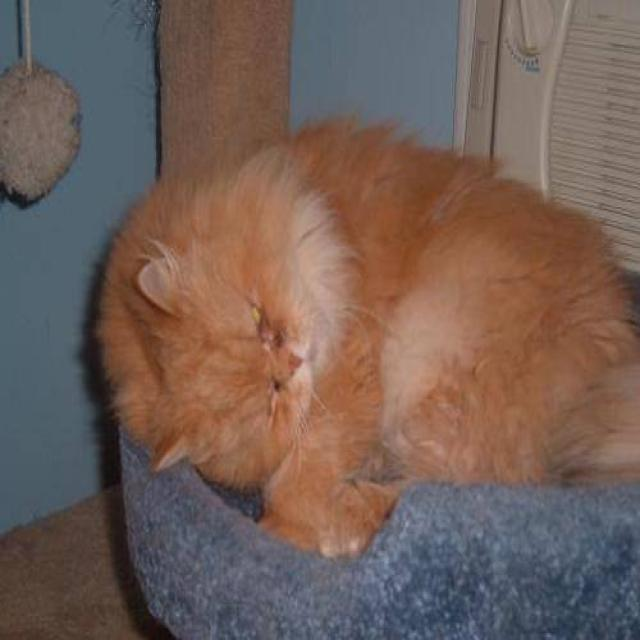cat: (94, 113, 638, 560)
